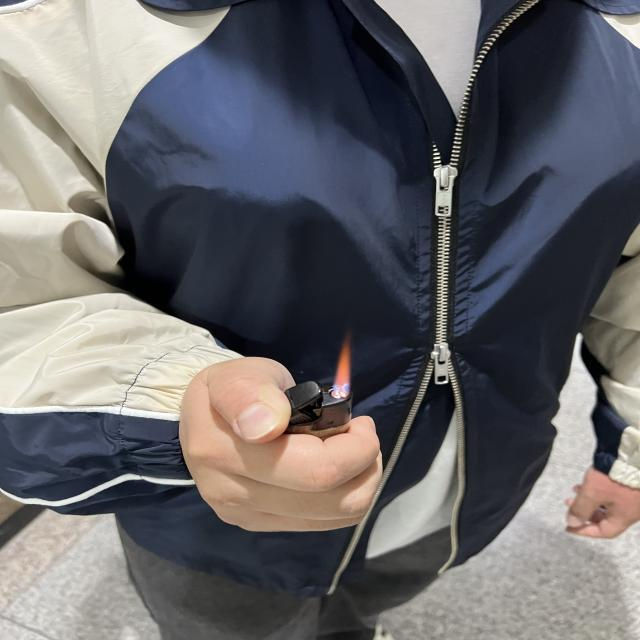fire: (331, 329, 356, 401)
